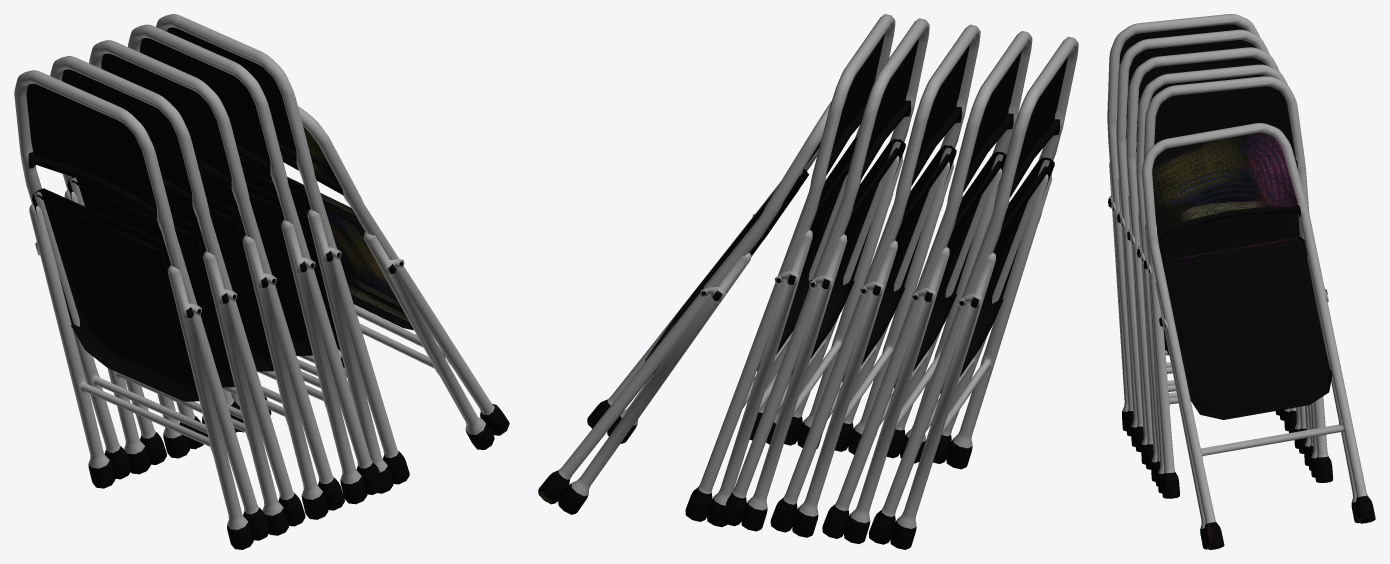
The model's file is folded chairs.glb.
3 renders of one model, left to right at view 1: azimuth 30°, elevation 25°; view 2: azimuth 150°, elevation 25°; view 3: azimuth 270°, elevation 25°, orthographic. The views are drawn at different scales.
Parts seen in each view (by area): view 1: Object_253.015, Object_253.014, Object_253.013, Object_253.012, Object_253.011, Object_252.011; view 2: Object_253.015, Object_253.013, Object_253.012, Object_253.014, Object_253.011, Object_252.011; view 3: Object_252.011, Object_253.011, Object_253.013, Object_253.014, Object_253.015, Object_253.012.
Part boxes in pixels (x1,y1,x2,y2): Object_253.015: [14, 70, 269, 549]; Object_253.014: [50, 56, 305, 535]; Object_253.013: [89, 40, 344, 519]; Object_253.012: [128, 24, 382, 504]; Object_253.011: [156, 14, 409, 493]; Object_252.011: [239, 106, 509, 449]; Object_253.015: [869, 36, 1078, 549]; Object_253.013: [770, 24, 980, 537]; Object_253.012: [722, 18, 929, 531]; Object_253.014: [822, 31, 1032, 543]; Object_253.011: [685, 14, 895, 526]; Object_252.011: [538, 101, 831, 514]; Object_252.011: [1142, 123, 1375, 549]; Object_253.011: [1143, 76, 1333, 498]; Object_253.013: [1126, 47, 1306, 469]; Object_253.014: [1116, 29, 1296, 452]; Object_253.015: [1107, 14, 1284, 436]; Object_253.012: [1136, 64, 1313, 486].
Size of the model in its own units: 1.39 by 1.34 by 0.8803.
2 materials, 1 textured.
